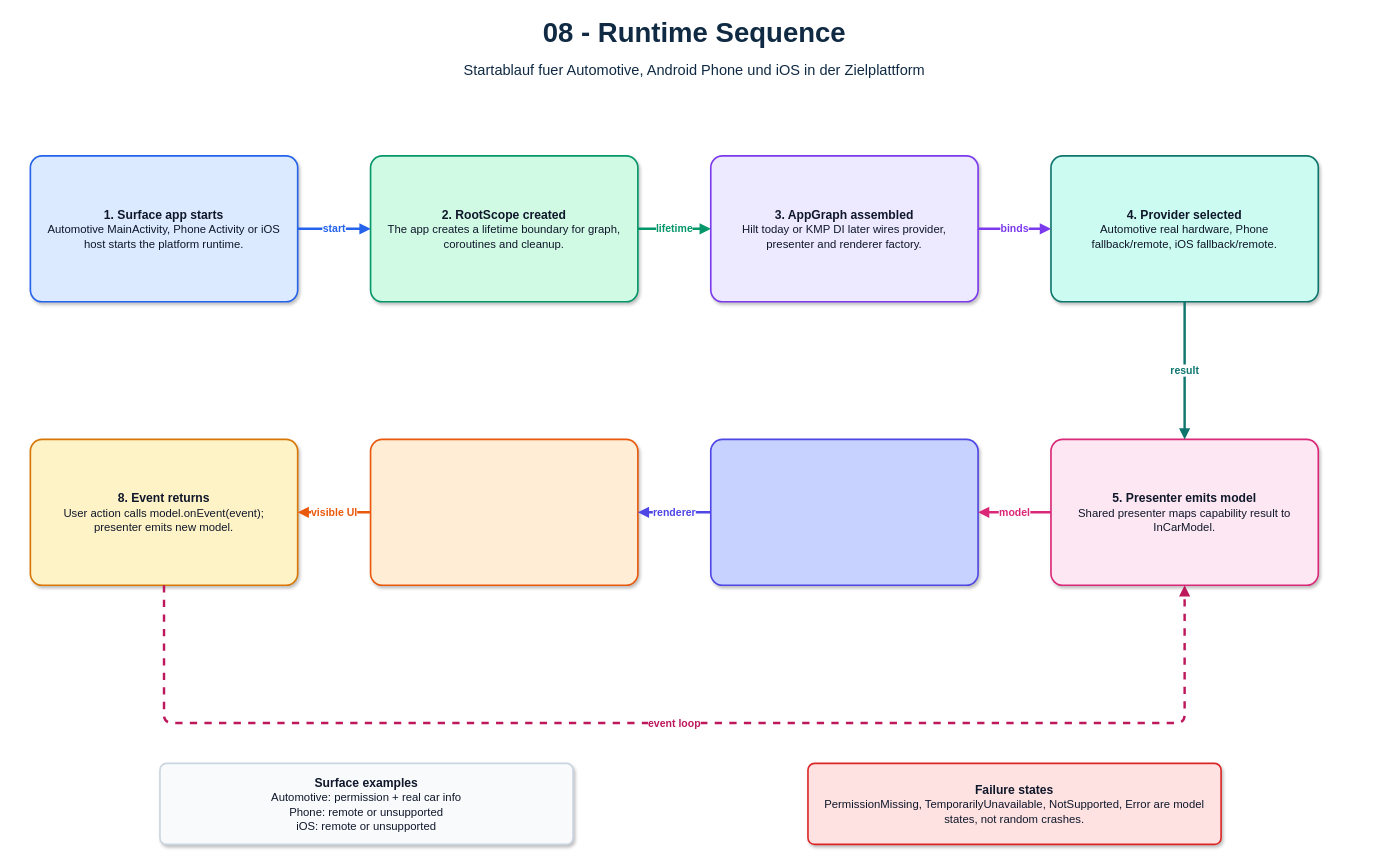
This 1388x864 diagram has some shape labels left out. Here are the shapes that lost their labels. From the top down, the centre of each, then its label:
the point at 504,513: 7. UI rendered MB widgets / Compose Multiplatform render the model.
the point at 844,513: 6. Renderer selected RendererFactory chooses Automotive, Phone or iOS renderer.
